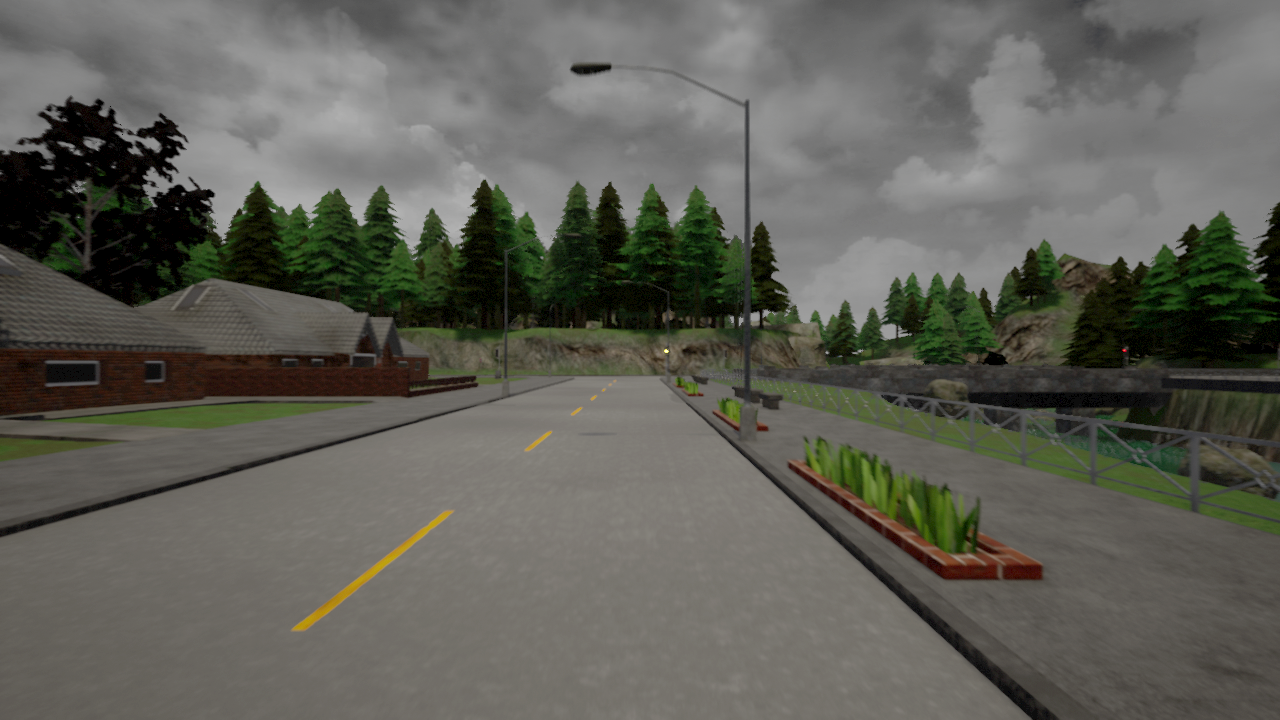yellow: (663, 344, 670, 357)
